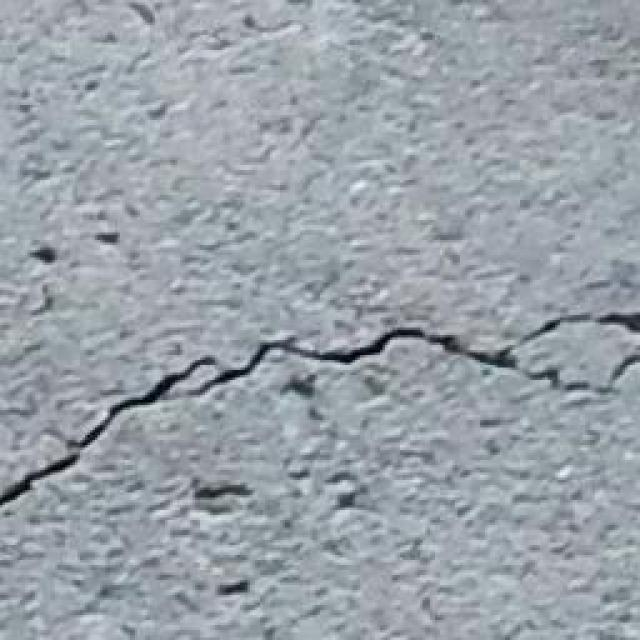concrete-crack: (0, 312, 640, 508)
